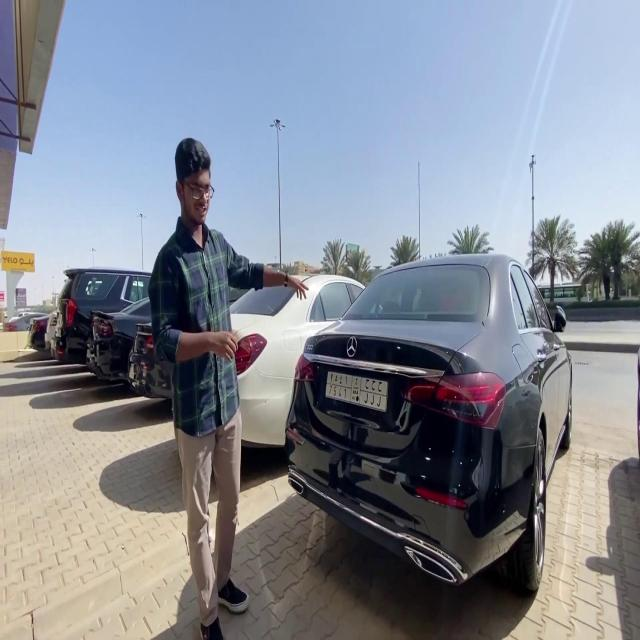license_plate: (321, 364, 388, 415)
